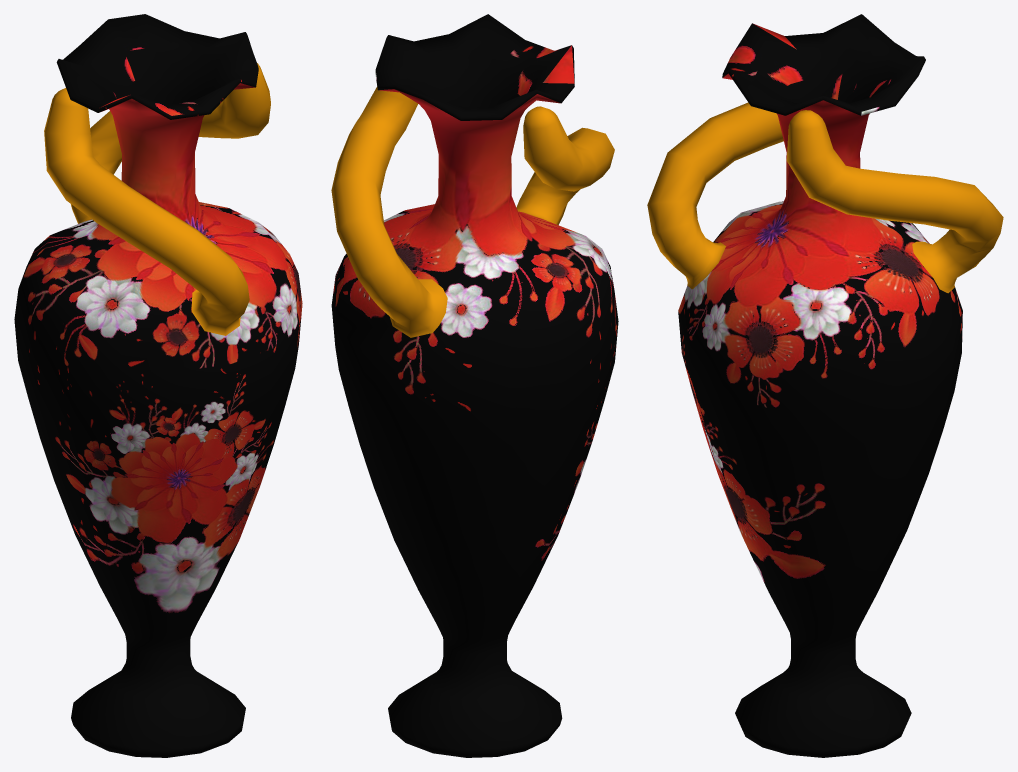
The model's file is Vase.fbx.
The picture shows the model from 3 angles, left to right: view 1: azimuth 30°, elevation 25°; view 2: azimuth 150°, elevation 25°; view 3: azimuth 270°, elevation 25°; orthographic projection.
Parts seen in each view (by area): view 1: Ornate Vase.013; view 2: Ornate Vase.013; view 3: Ornate Vase.013.
Boxes of the visible parts, box(x1,y1,x2,y2) form: Ornate Vase.013: box(14, 14, 302, 757); Ornate Vase.013: box(331, 14, 618, 757); Ornate Vase.013: box(647, 14, 1003, 757).
Bounding box in the file's own units: 32.59 × 82.98 × 39.98.
